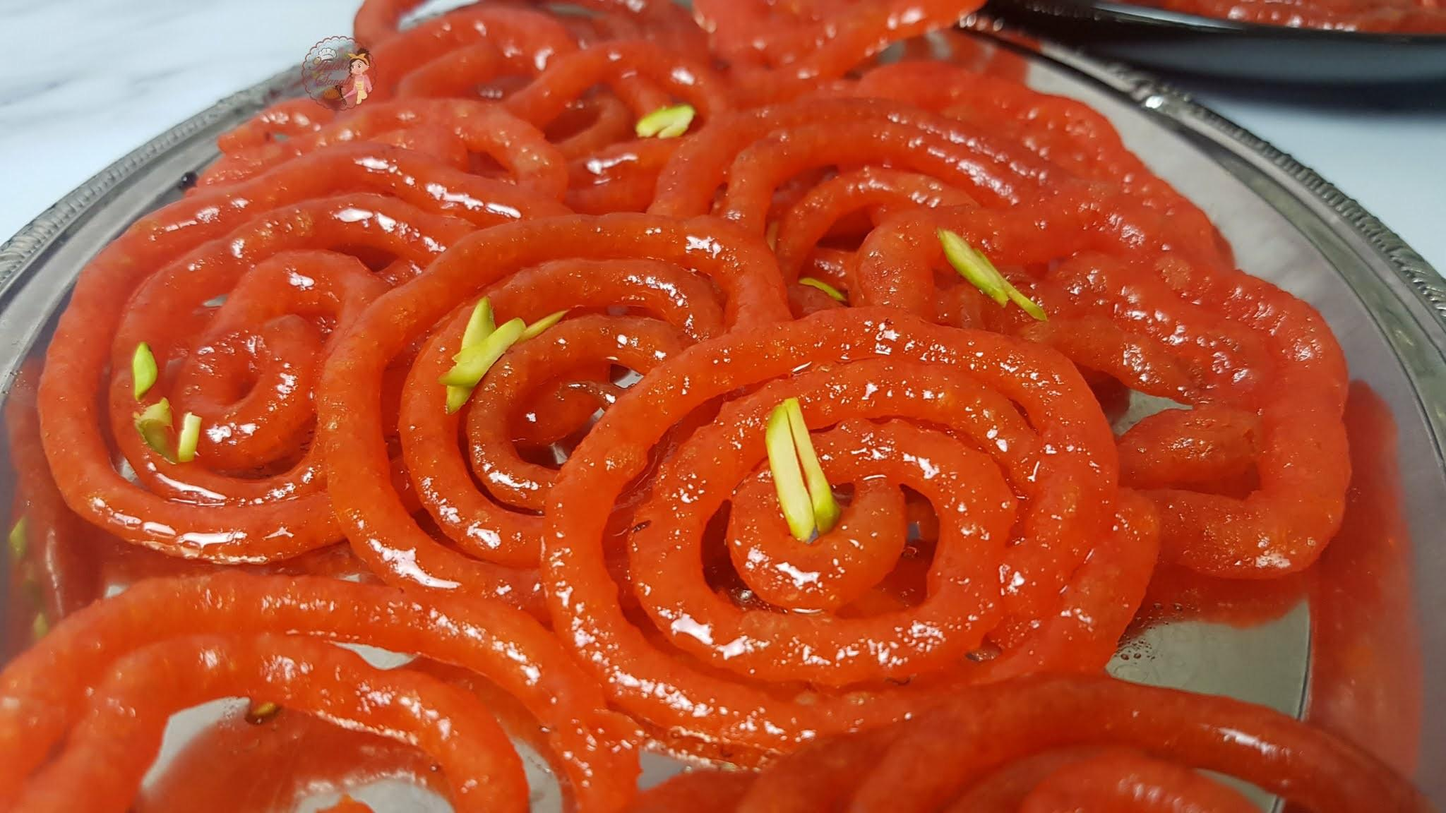Jalebi: (0, 2, 1426, 813)
